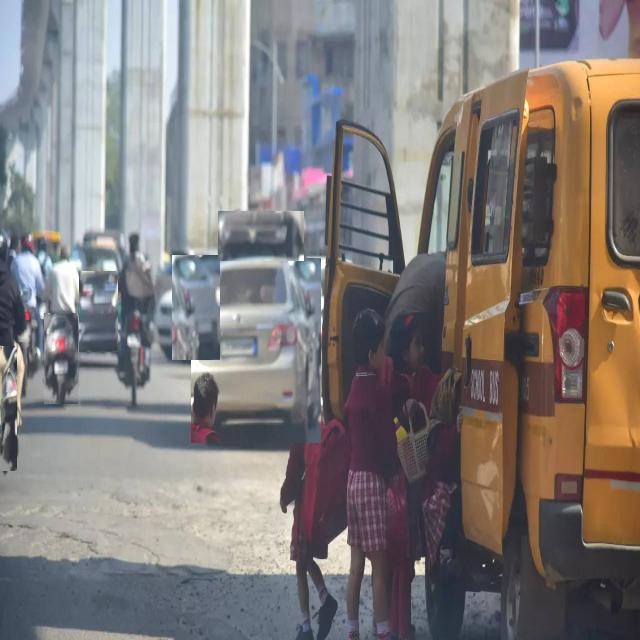bus: (219, 211, 304, 261)
car: (324, 60, 640, 638), (191, 258, 321, 443), (172, 255, 220, 360), (80, 271, 118, 352)
motorcycle: (118, 309, 150, 407), (45, 314, 78, 404), (0, 347, 17, 471)
